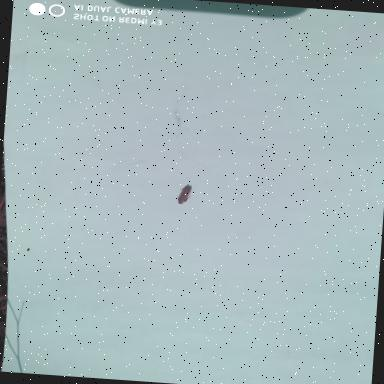pbw: (172, 182, 195, 206)
